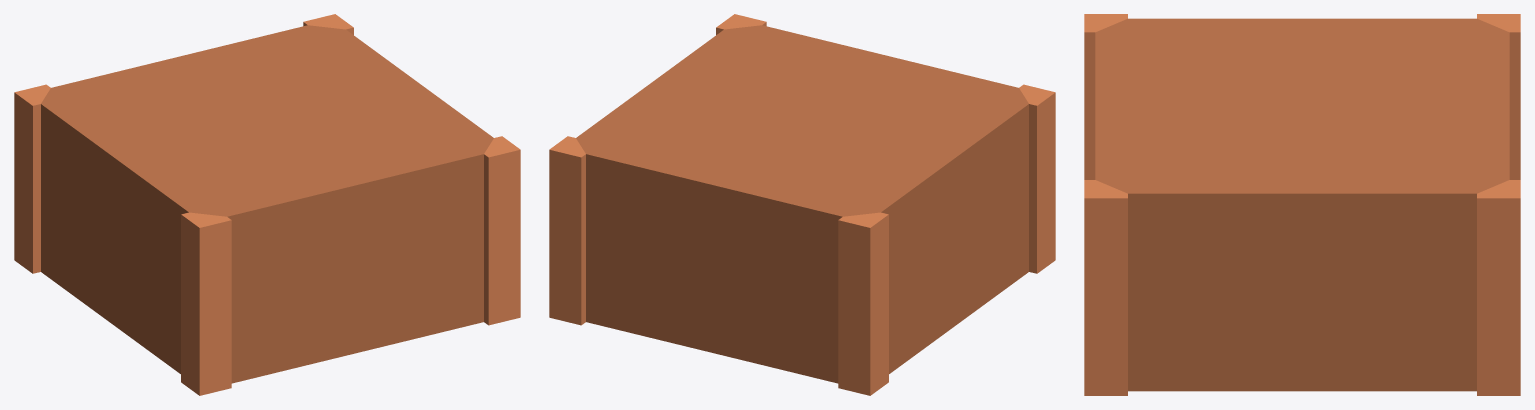
File: wallWoodBlockHalf.obj
3 views of the same model, side by side, from view 1: azimuth 30°, elevation 25°; view 2: azimuth 150°, elevation 25°; view 3: azimuth 270°, elevation 25° (orthographic). The views are drawn at different scales.
Visible parts, largest first — view 1: wallWoodBlockHalf; view 2: wallWoodBlockHalf; view 3: wallWoodBlockHalf.
Part boxes in pixels (x1=…): wallWoodBlockHalf: x1=14, y1=14, x2=520, y2=395; wallWoodBlockHalf: x1=549, y1=14, x2=1055, y2=395; wallWoodBlockHalf: x1=1084, y1=14, x2=1520, y2=395.
Size of the model in its own units: 1 by 0.5 by 1.
